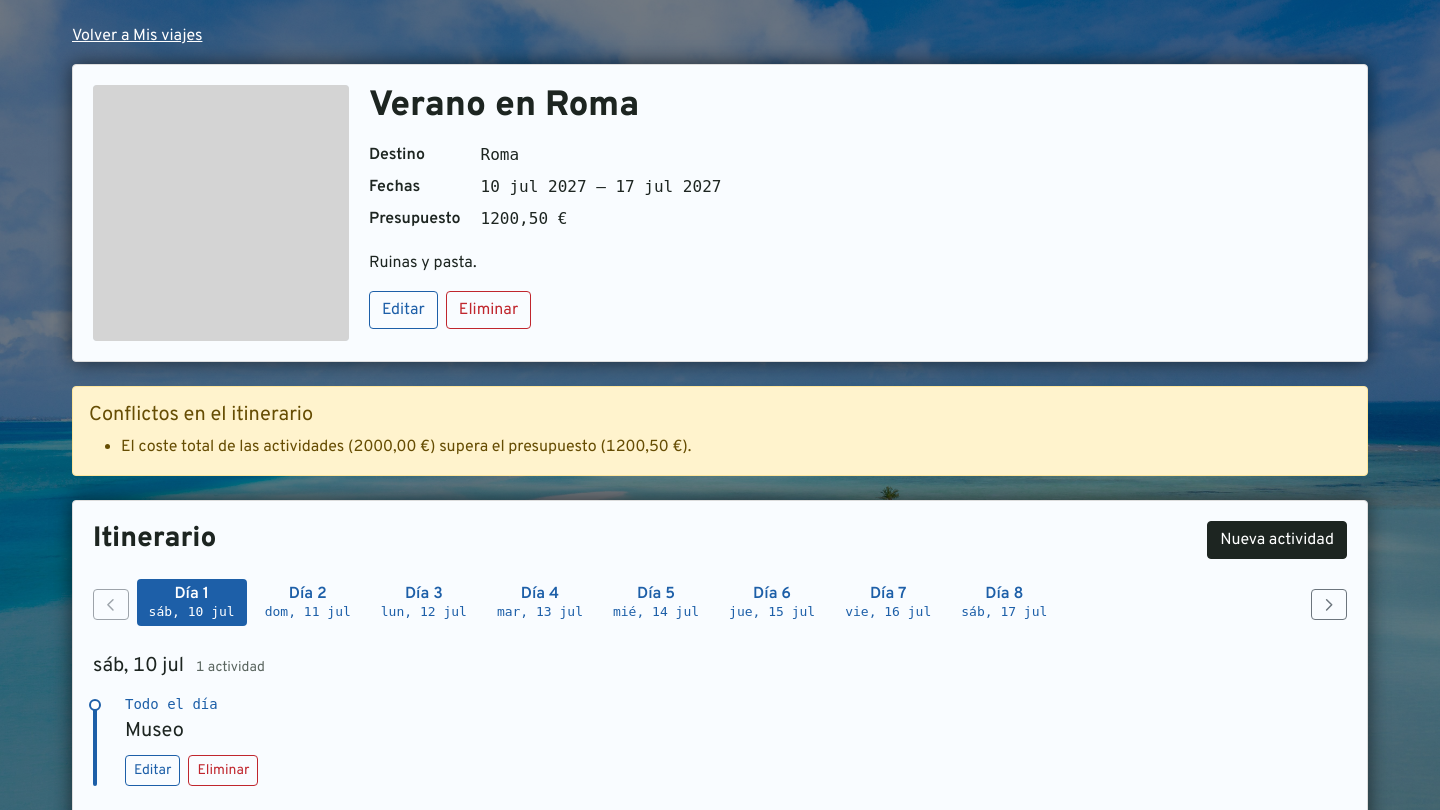
Test: B4 TripDetailPage › B6 deleting an activity asks for the conflicts again and the warning goes away
Check: the message is shown, box [72,386,1368,476]
Click the button with aria-label "Eliminar Museo": [224, 770] box [188,755,258,786]
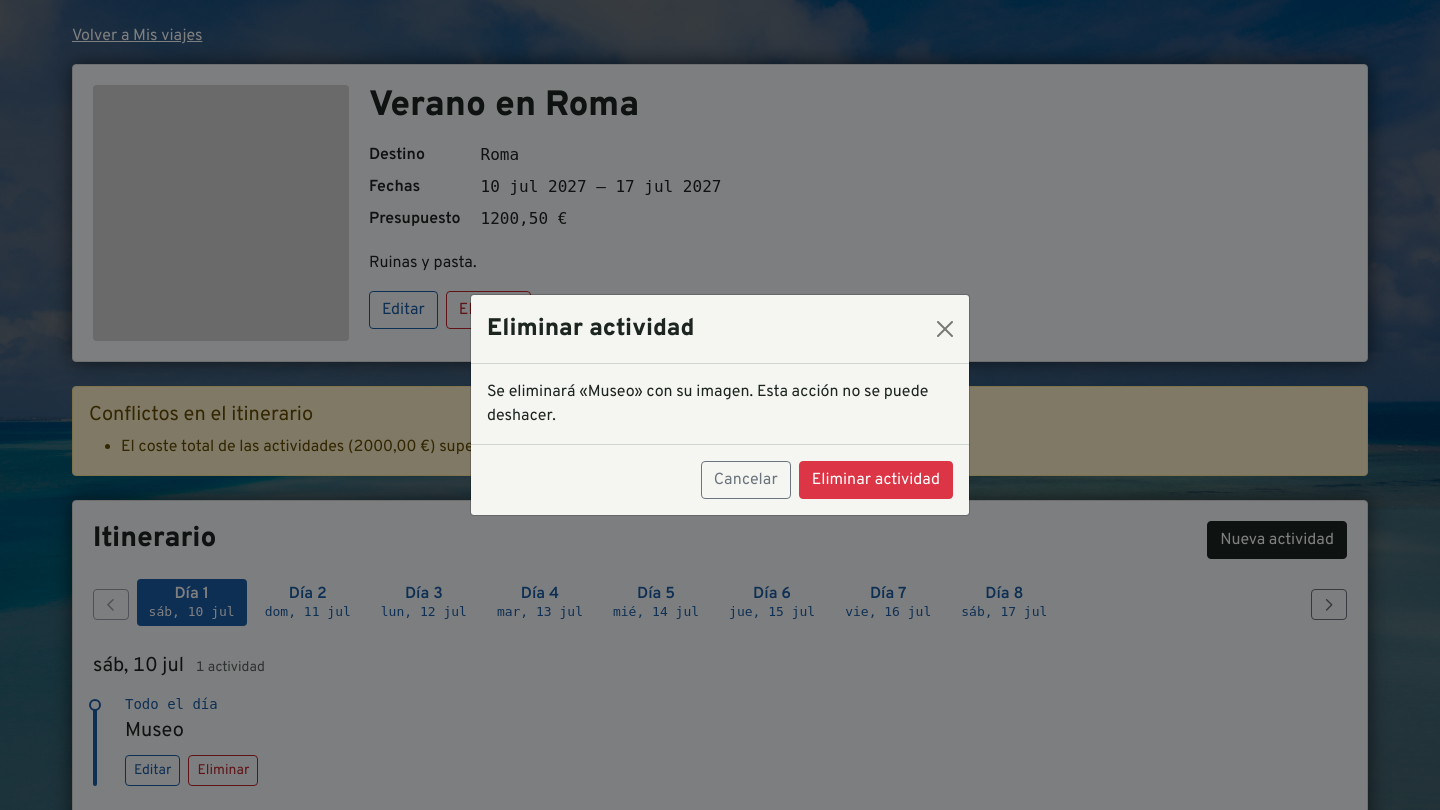
Click the button "Eliminar actividad": [876, 480] box [799,461,953,499]
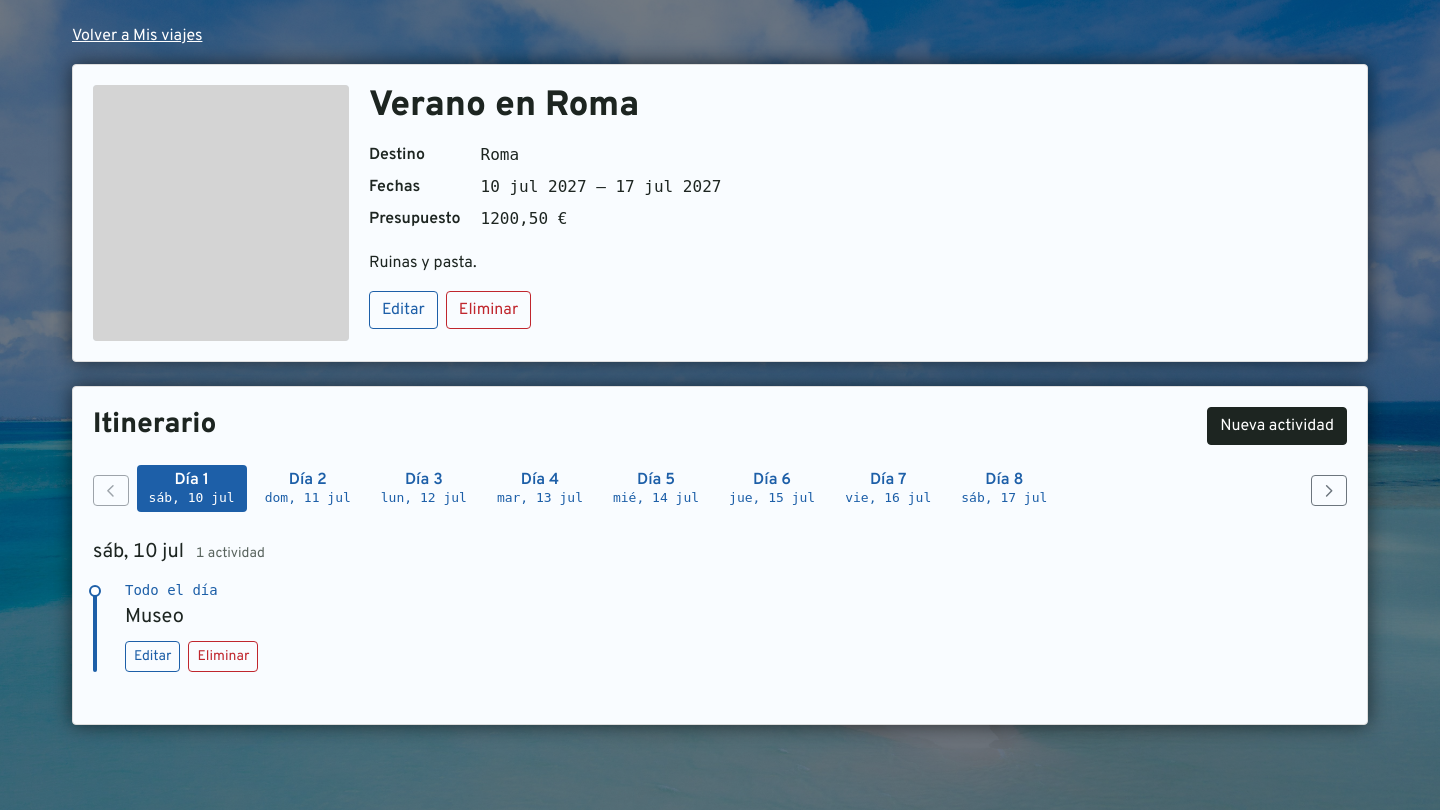
Check: the message is gone
